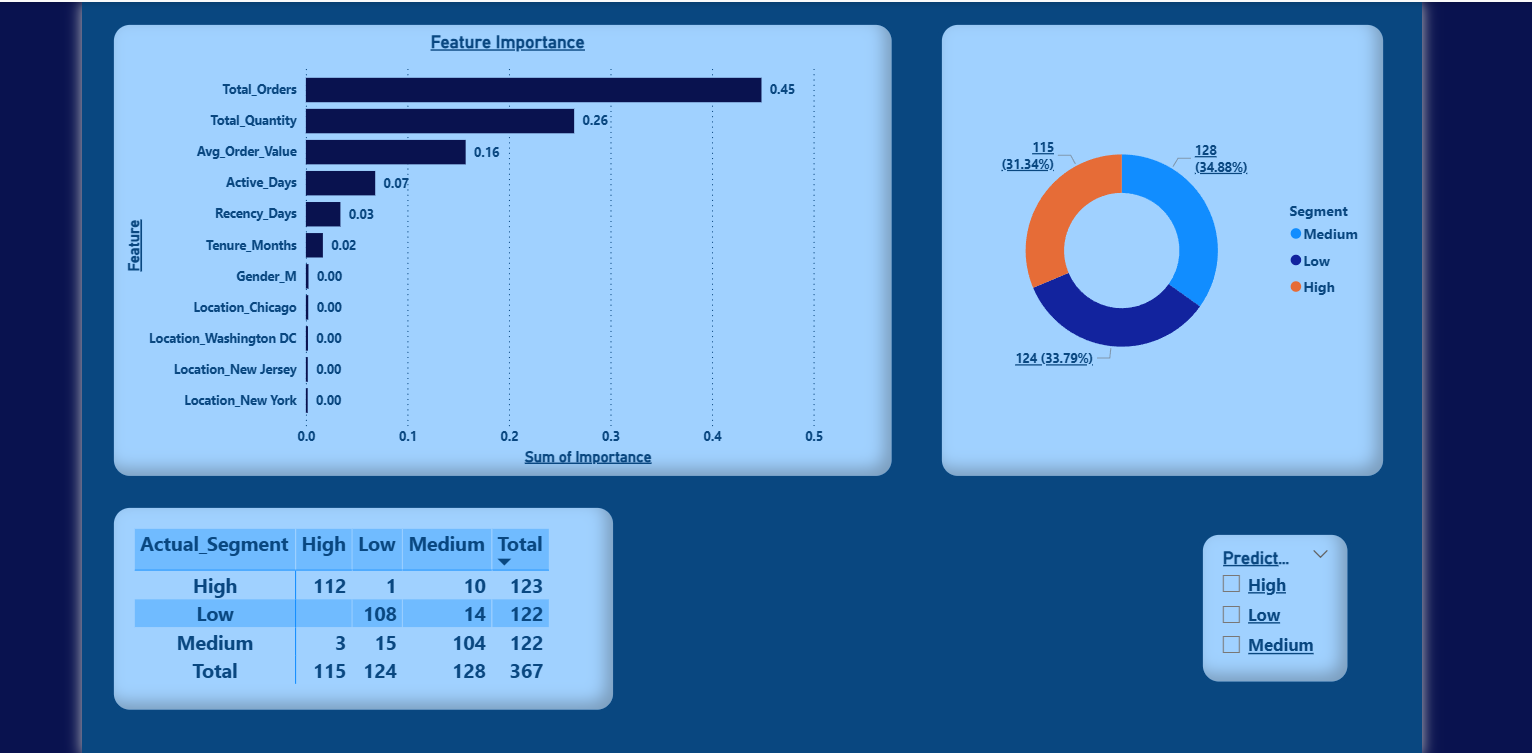

This screenshot's page, from the dashboard's own definition file:
{"tool":"powerbi","page":{"name":"Customer Value (ML)","canvas":[1280,720],"ordinal":2},"visuals":[{"type":"donutChart","fields":{"Category":["customer_value_predictions.Predicted_Segment"],"Y":["CountNonNull(customer_value_predictions.Predicted_Segment)"]},"box":[816.4,17,430.9,440.3],"z":0},{"type":"pivotTable","fields":{"Rows":["customer_value_predictions.Actual_Segment"],"Columns":["customer_value_predictions.Predicted_Segment"],"Values":["CountNonNull(customer_value_predictions.Predicted_Segment)"]},"box":[26.5,478.1,485.7,202.2],"z":1000},{"type":"barChart","title":"Feature Importance","fields":{"Category":["rf_feature_importance.Feature"],"Y":["Sum(rf_feature_importance.Importance)"]},"box":[26.5,17,752.1,440.3],"z":2000},{"type":"slicer","fields":{"Values":["customer_value_predictions.Predicted_Segment"]},"box":[1065.8,504.6,147.4,149.3],"z":3000}]}

Visuals, with their boxes in screenshot pixels (x1, y1, x2, y2):
donutChart - customer_value_predictions.Predicted_Segment x CountNonNull(customer_value_predictions.Predicted_Segment): region(927, 22, 1372, 476)
pivotTable - customer_value_predictions.Actual_Segment x customer_value_predictions.Predicted_Segment: region(111, 498, 613, 707)
"Feature Importance" barChart: region(111, 22, 888, 476)
slicer - customer_value_predictions.Predicted_Segment: region(1185, 525, 1337, 679)
